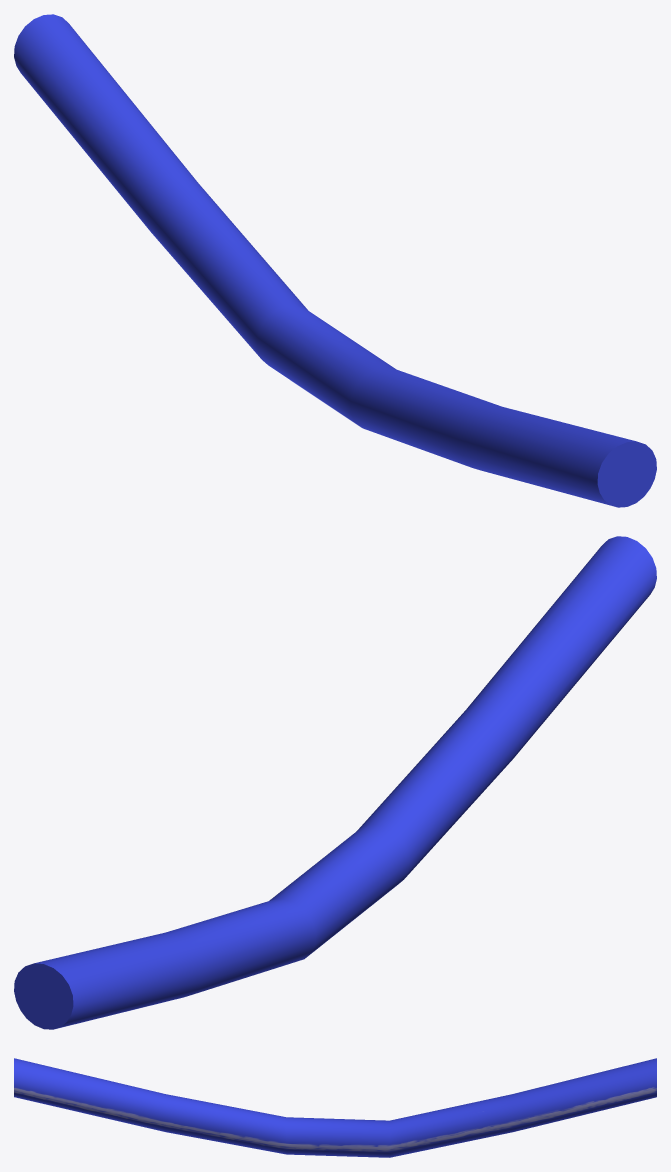
File: bWire.obj
3 renders of one model, top to bottom at view 1: azimuth 30°, elevation 25°; view 2: azimuth 150°, elevation 25°; view 3: azimuth 270°, elevation 25°, orthographic. The views are drawn at different scales.
Visible parts, largest first — view 1: wire:wire; view 2: wire:wire; view 3: wire:wire.
Boxes of the visible parts, box(x1,y1,x2,y2) form: wire:wire: box(14, 14, 656, 507); wire:wire: box(14, 536, 656, 1029); wire:wire: box(14, 1058, 656, 1157).
Size of the model in its own units: 0.1139 by 0.32 by 1.94.
1 material, 1 textured.
